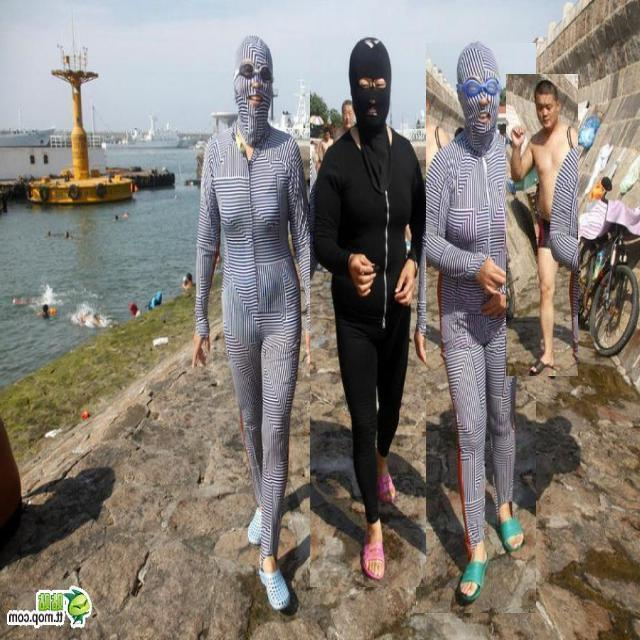direk: (192, 37, 324, 618), (416, 43, 536, 613), (310, 37, 426, 587), (506, 74, 578, 376)
